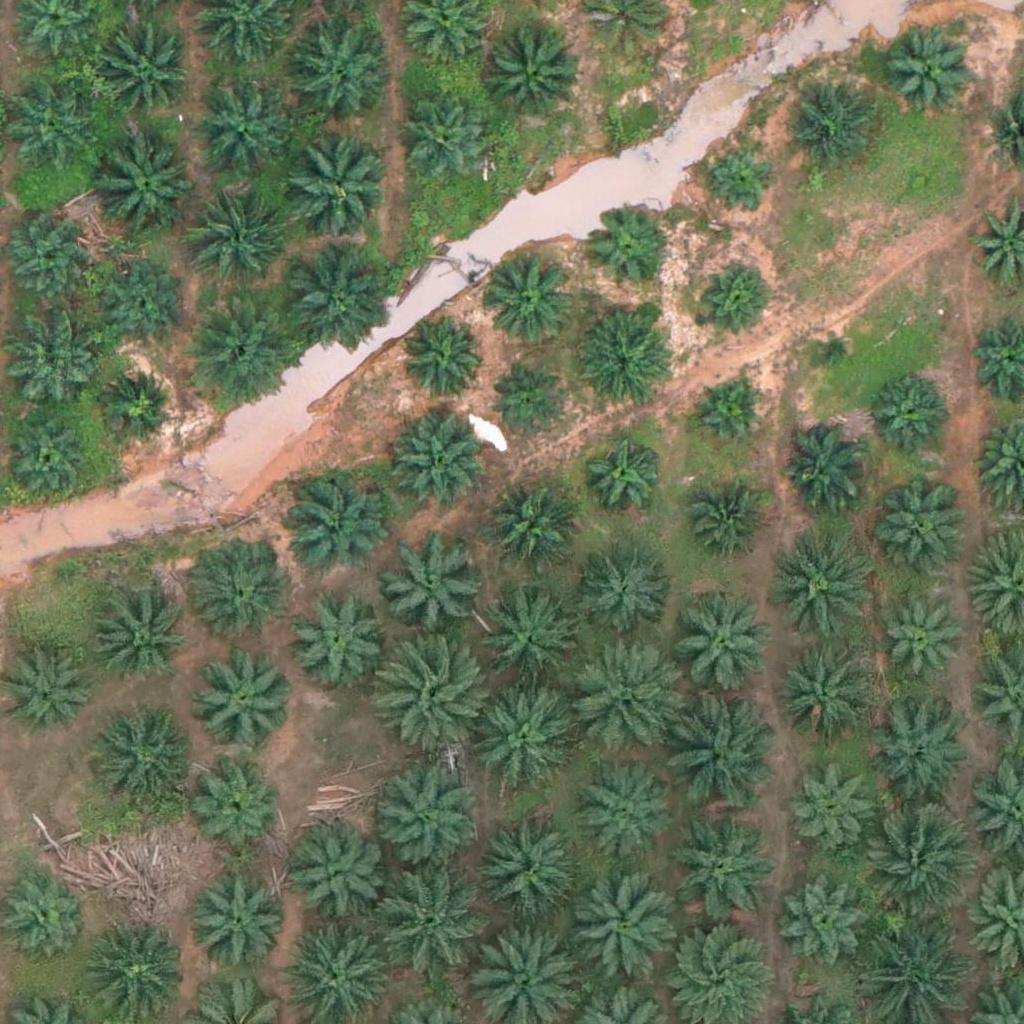Kelapa_Sawit: (282, 11, 395, 125), (566, 638, 679, 752), (86, 122, 199, 235), (185, 302, 298, 415), (274, 123, 387, 236), (565, 873, 678, 986), (859, 799, 971, 913), (663, 694, 775, 808), (179, 183, 291, 296), (278, 246, 390, 359), (375, 867, 487, 980), (369, 757, 481, 870), (376, 637, 488, 750), (91, 17, 191, 118), (570, 316, 670, 417), (873, 483, 973, 584), (671, 596, 771, 697), (383, 533, 483, 634), (281, 472, 381, 573), (189, 537, 289, 638), (89, 586, 189, 687), (868, 707, 968, 808), (572, 757, 672, 858), (471, 687, 571, 788), (475, 820, 575, 921), (286, 824, 386, 925), (191, 872, 291, 973), (194, 647, 294, 748), (90, 707, 190, 808), (190, 75, 290, 175), (478, 18, 578, 118), (782, 81, 882, 181), (771, 538, 871, 638), (386, 419, 486, 519), (285, 588, 385, 688), (778, 868, 878, 968), (774, 642, 874, 742), (669, 819, 769, 919), (574, 539, 674, 639), (481, 594, 581, 694), (94, 362, 182, 450), (403, 93, 491, 181), (876, 603, 964, 691), (782, 421, 870, 509), (790, 763, 878, 851), (4, 649, 92, 737), (9, 88, 96, 176), (5, 213, 92, 301), (7, 417, 94, 505), (100, 258, 187, 346), (881, 21, 968, 109), (587, 204, 674, 292), (486, 484, 573, 572), (682, 485, 769, 573), (866, 362, 953, 450), (481, 253, 568, 341), (399, 316, 486, 404), (194, 759, 281, 847), (584, 438, 659, 514), (690, 378, 765, 454), (696, 261, 771, 337), (707, 141, 782, 217), (494, 369, 569, 444), (807, 322, 857, 372)
